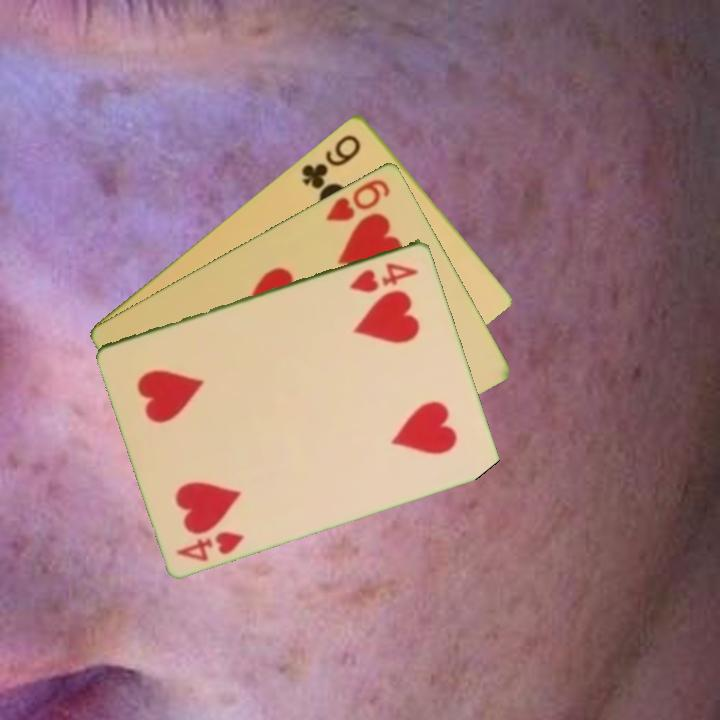4h: (346, 258, 422, 295), (173, 527, 247, 564)
6h: (322, 175, 393, 224)
9c: (297, 130, 364, 192)
